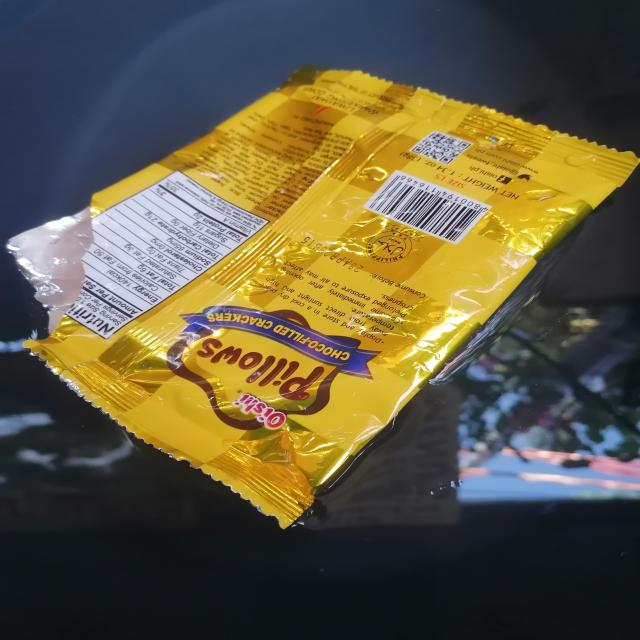Plastic Wrapper: (7, 67, 640, 527)
